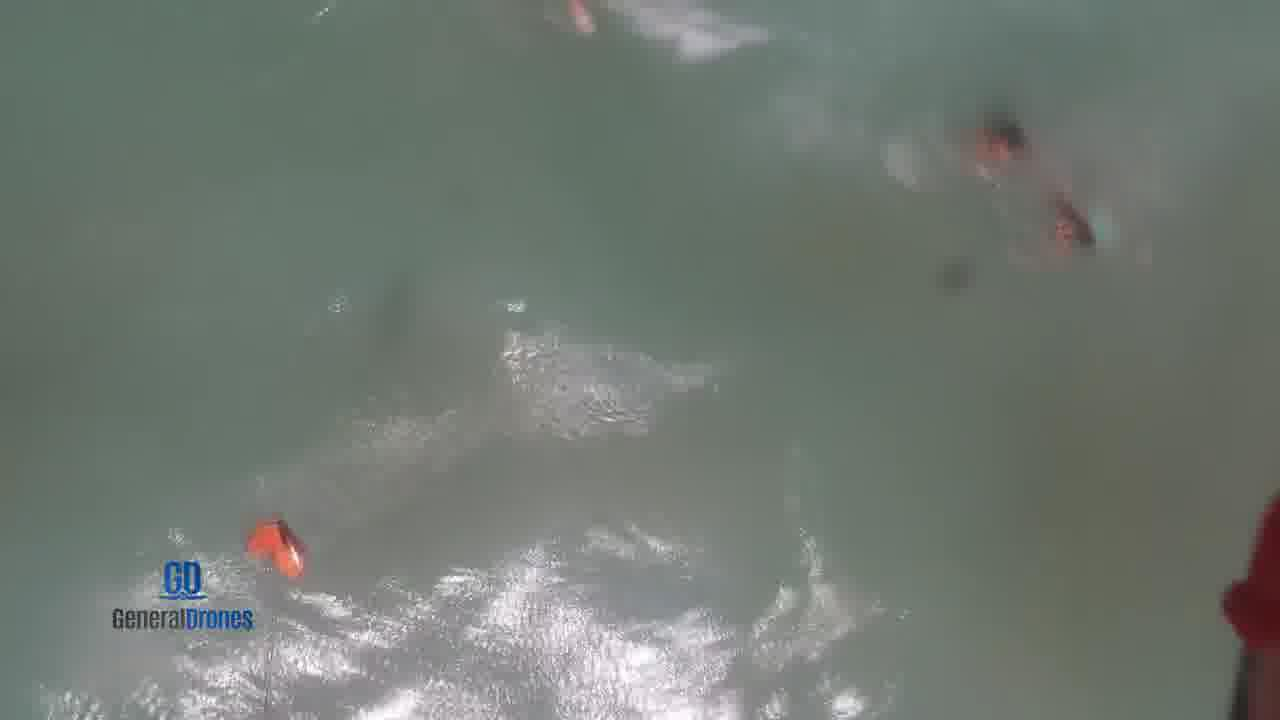human: (1036, 187, 1112, 259), (963, 102, 1034, 178)
